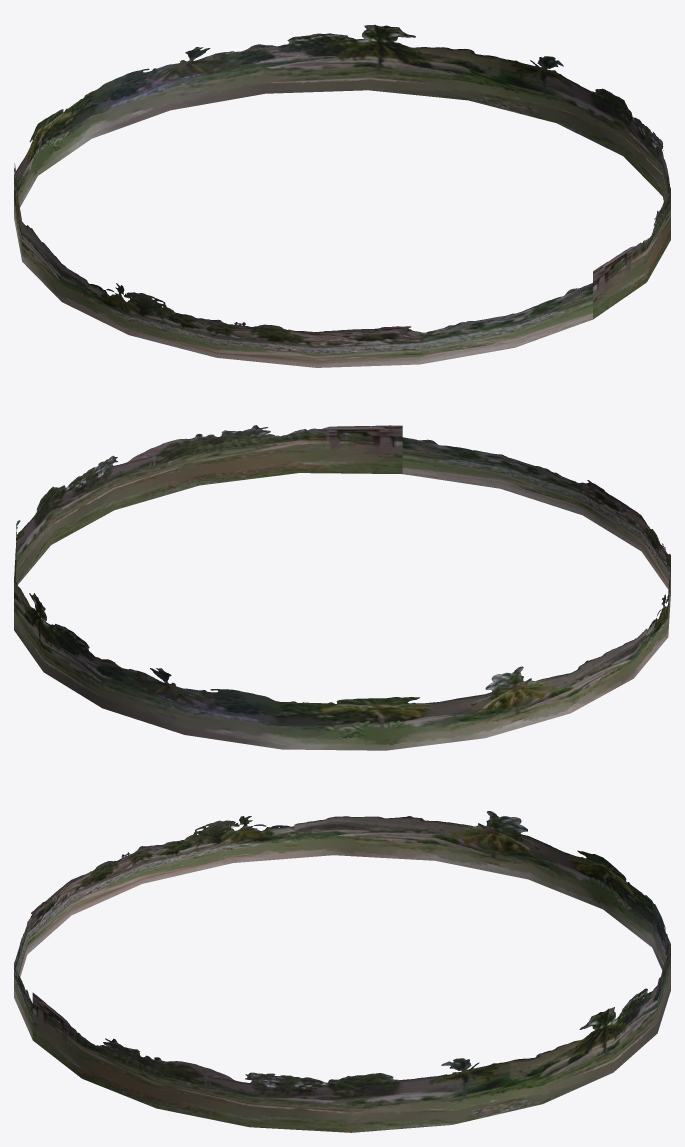
File: Card_1.fbx
3 views of the same model, one above another, from view 1: azimuth 30°, elevation 25°; view 2: azimuth 150°, elevation 25°; view 3: azimuth 270°, elevation 25° (orthographic).
Parts seen in each view (by area): view 1: pCylinder1; view 2: pCylinder1; view 3: pCylinder1.
Part boxes in pixels (x1,y1,x2,y2): pCylinder1: [14, 24, 670, 367]; pCylinder1: [14, 425, 670, 750]; pCylinder1: [14, 811, 670, 1132].
Bounding box in the file's own units: 111 × 14.23 × 111.
